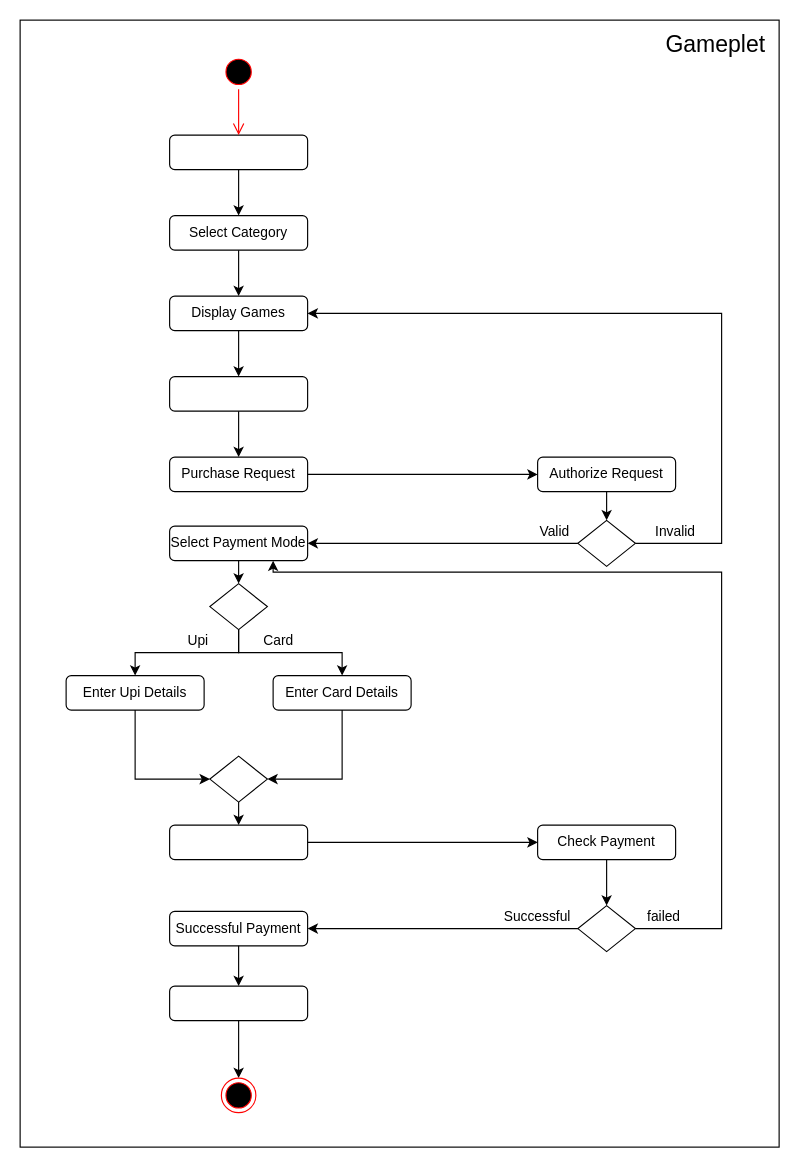
Image size: 799x1167. Some labels were removed from this diagram. Here are the shapes that lost their labels. From the top down, the centre of each, then its label:
At point 238,152: "Display Categories".
At point 238,393: "Select Game".
At point 238,842: "Confirm Payment".
At point 238,1003: "Download Game".
